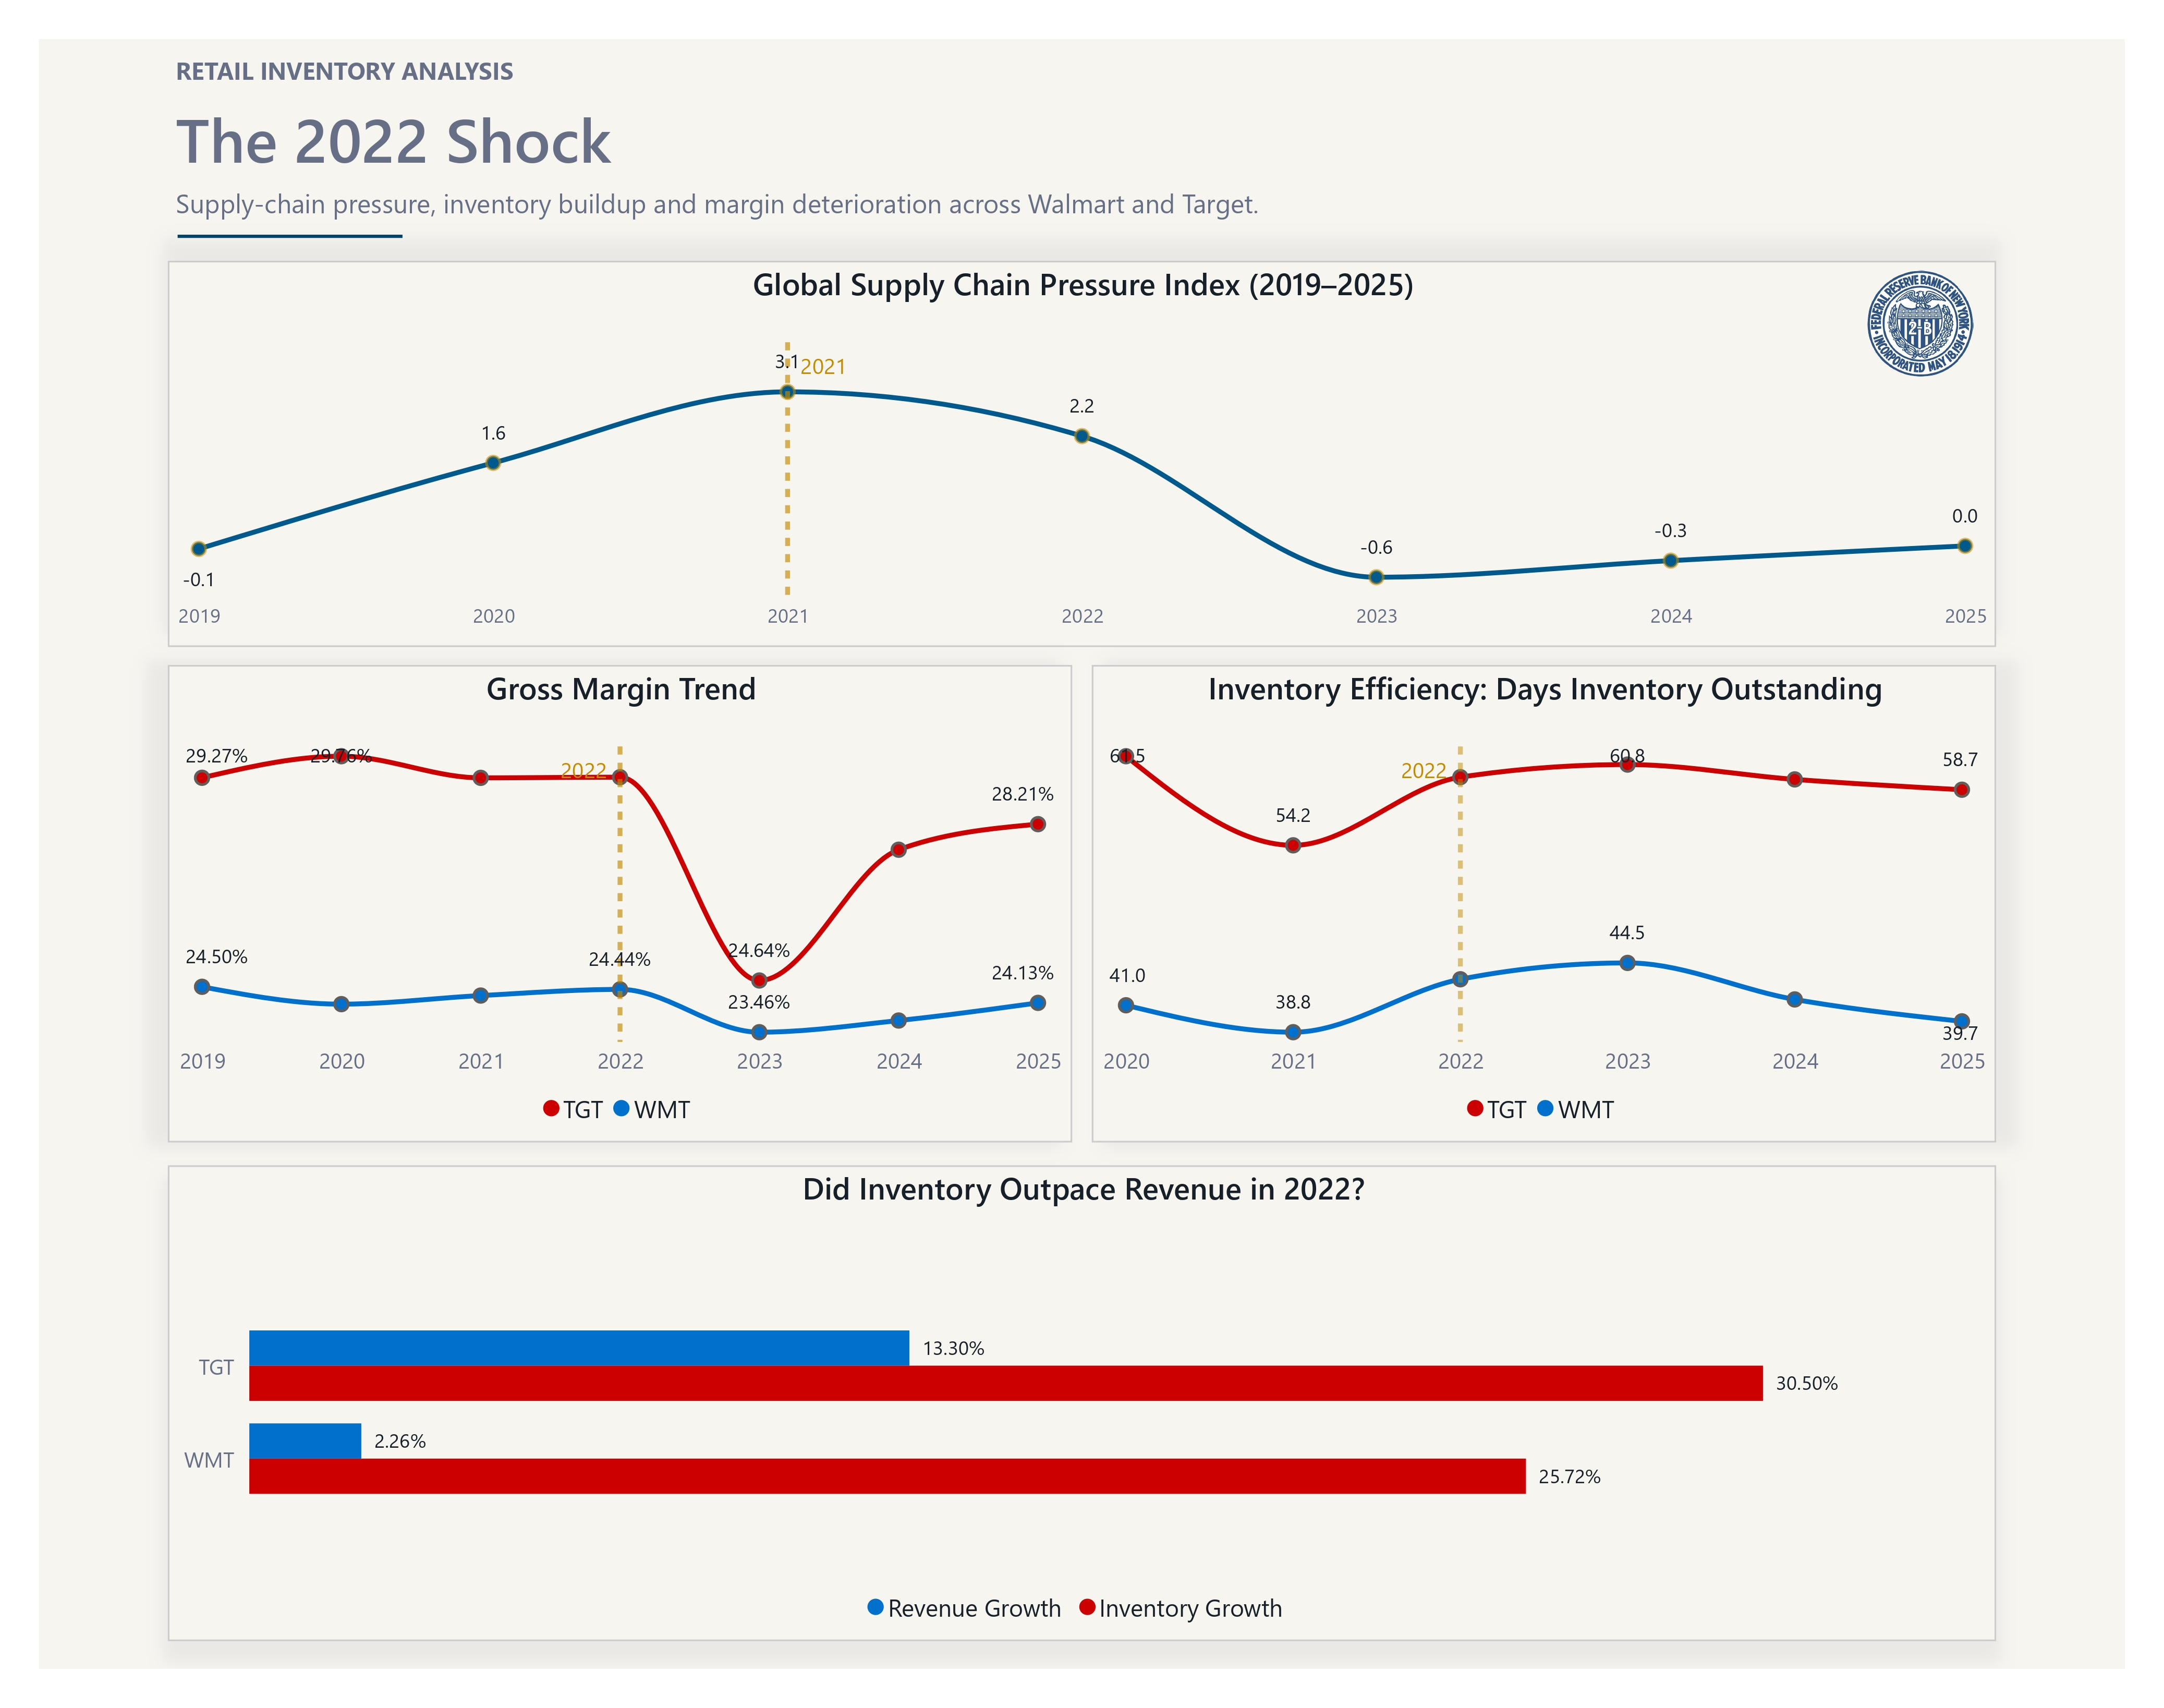

The dashboard page shown, as its layout file describes it:
{"tool":"powerbi","page":{"name":"The 2022 Shock","canvas":[1280,1000],"ordinal":1},"visuals":[{"type":"lineChart","title":"Inventory Efficiency: Days Inventory Outstanding","fields":{"Category":["supply_chain_case_study.fiscal_year"],"Series":["supply_chain_case_study.company"],"Y":["measures (2).DIO"]},"box":[646,384,555,293.4],"z":0},{"type":"lineChart","title":"Global Supply Chain Pressure Index (2019–2025)","fields":{"Category":["supply_chain_case_study.fiscal_year"],"Y":["measures (2).average gscpi"]},"box":[79,136,1122,237],"z":1000},{"type":"lineChart","title":"Gross Margin Trend","fields":{"Category":["supply_chain_case_study.fiscal_year"],"Series":["supply_chain_case_study.company"],"Y":["measures (2).gross margin %"]},"box":[79,384,555,293],"z":2000},{"type":"clusteredBarChart","title":"Did Inventory Outpace Revenue in 2022?","fields":{"Category":["supply_chain_case_study.company"],"Y":["measures (2).revenue growth %","measures (2).inventory growth %"]},"box":[79,691,1121.7,292],"z":3000},{"type":"group","id":"g1","title":"Group 1","box":[79,4,687,138],"z":4000},{"type":"textbox","box":[79,4,222,31],"z":4000,"group":"g1"},{"type":"textbox","box":[79,31,311,61],"z":5000,"group":"g1"},{"type":"image","box":[1114,142,81,65],"z":5000},{"type":"textbox","box":[79,85,687,31],"z":6000,"group":"g1"},{"type":"shape","box":[85,100,138,42],"z":7000,"group":"g1"}]}

Visuals, with their boxes on the page's 1280x1000 design canvas (x1, y1, x2, y2). These are canvas units, not pixel positions in the 2164x1708 screenshot, which may show the page scaled, cropped or inside an application window:
"Inventory Efficiency: Days Inventory Outstanding" lineChart: [left=646, top=384, right=1201, bottom=677]
"Global Supply Chain Pressure Index (2019–2025)" lineChart: [left=79, top=136, right=1201, bottom=373]
"Gross Margin Trend" lineChart: [left=79, top=384, right=634, bottom=677]
"Did Inventory Outpace Revenue in 2022?" clusteredBarChart: [left=79, top=691, right=1201, bottom=983]
"Group 1" group: [left=79, top=4, right=766, bottom=142]
textbox: [left=79, top=4, right=301, bottom=35]
textbox: [left=79, top=31, right=390, bottom=92]
image: [left=1114, top=142, right=1195, bottom=207]
textbox: [left=79, top=85, right=766, bottom=116]
shape: [left=85, top=100, right=223, bottom=142]
